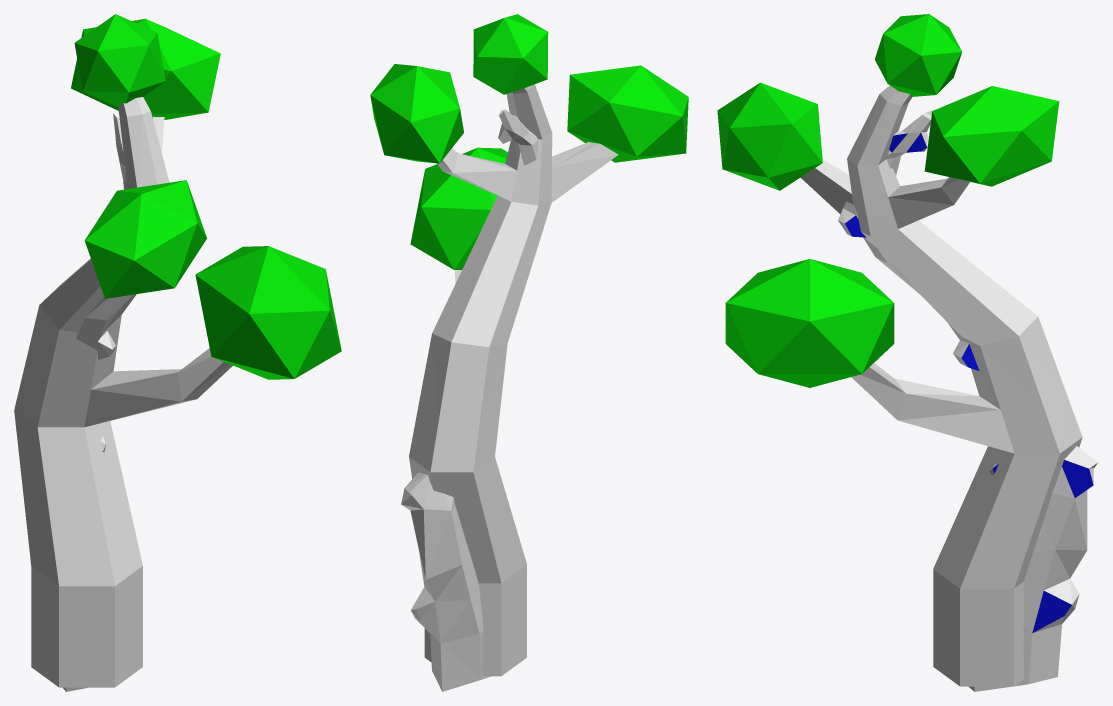
The model's file is tentacle.dae.
3 renders of one model, left to right at view 1: azimuth 30°, elevation 25°; view 2: azimuth 150°, elevation 25°; view 3: azimuth 270°, elevation 25°, orthographic. The views are drawn at different scales.
Parts seen in each view (by area): view 1: Cylinder.001, Cylinder; view 2: Cylinder.001, Cylinder; view 3: Cylinder.001, Cylinder.
Part boxes in pixels (x1=…): Cylinder.001: x1=14, y1=14, x2=341, y2=687; Cylinder: x1=63, y1=113, x2=133, y2=691; Cylinder.001: x1=370, y1=14, x2=688, y2=676; Cylinder: x1=401, y1=109, x2=538, y2=691; Cylinder.001: x1=717, y1=14, x2=1082, y2=686; Cylinder: x1=838, y1=110, x2=1098, y2=691.
Size of the model in its own units: 8.63 by 11.3 by 21.77.
